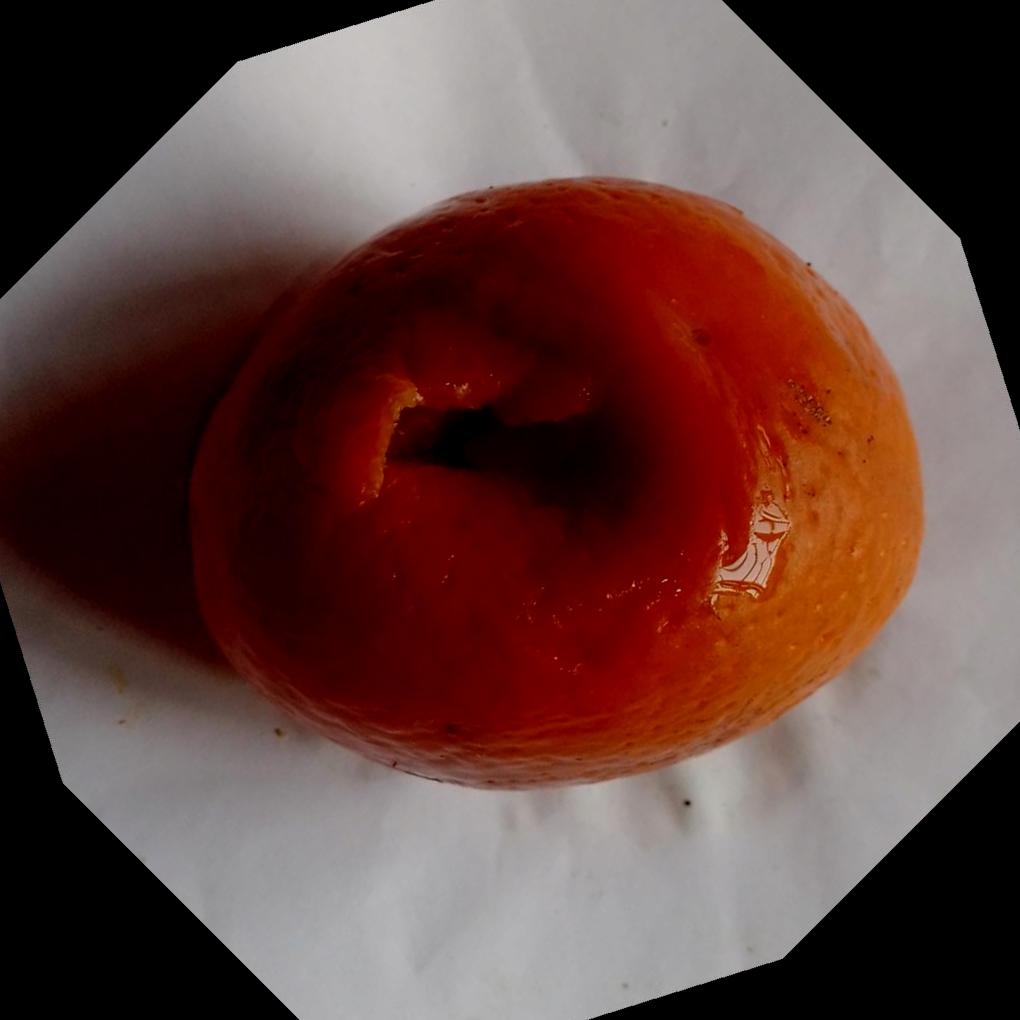FreshOrange: (181, 176, 925, 795)
